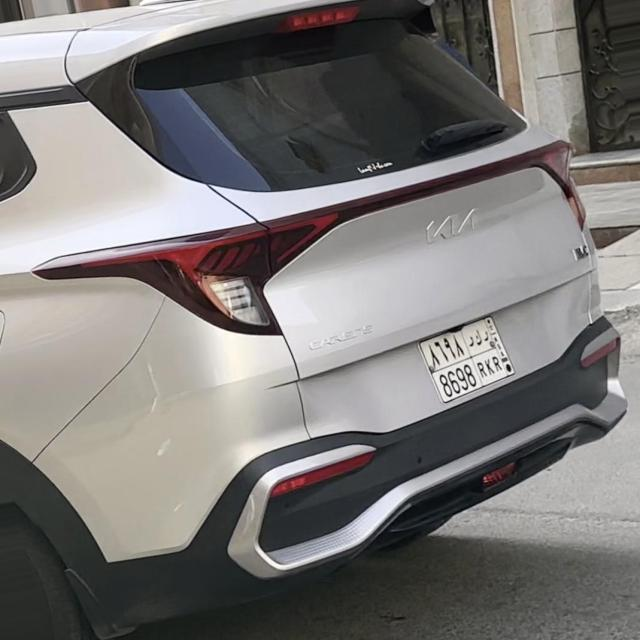Car-plate: (401, 308, 537, 414)
